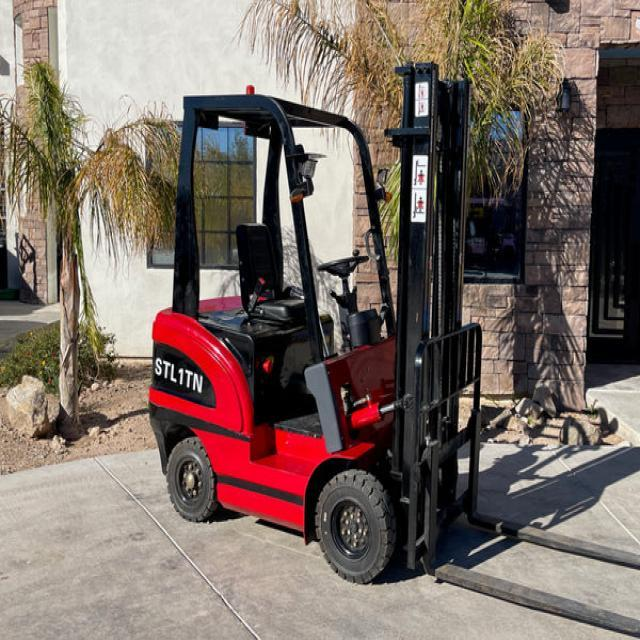forklift: (132, 70, 505, 593)
